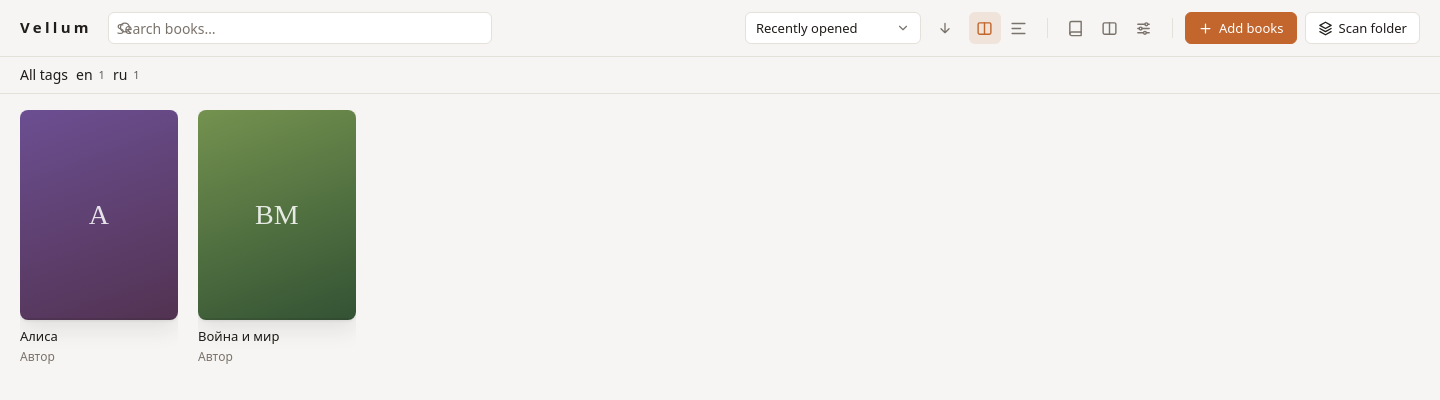
Test: LibraryView › filters by tag chip and resets via "All tags"
Expected: the button with test id "chip-all" reads "All tags", [20, 65, 68, 85]
Click the button with test id "chip-tag-ru" at (126, 75), box [113, 65, 140, 85]
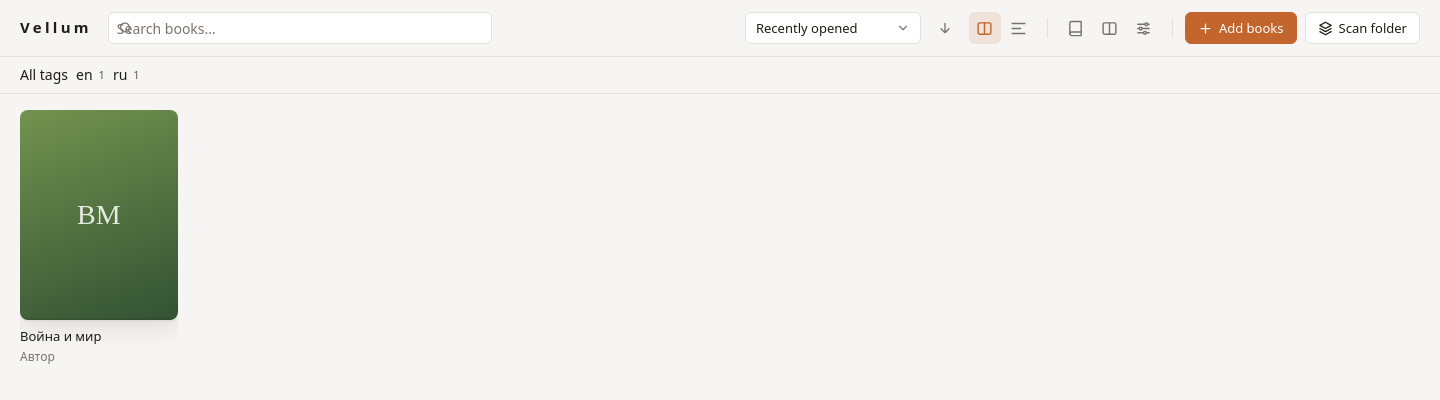
Expected: the number of buttons with test id "book-card" is 1, [20, 110, 178, 384]
Click the button with test id "chip-all" at (44, 75), box [20, 65, 68, 85]
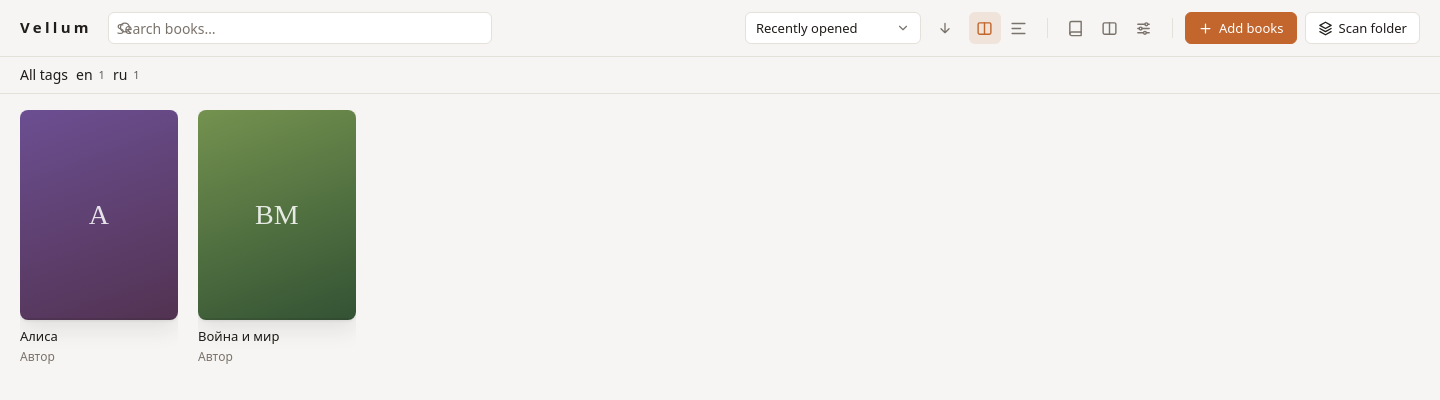
Expected: the number of buttons with test id "book-card" is 2, [20, 110, 178, 384]; [198, 110, 355, 384]
